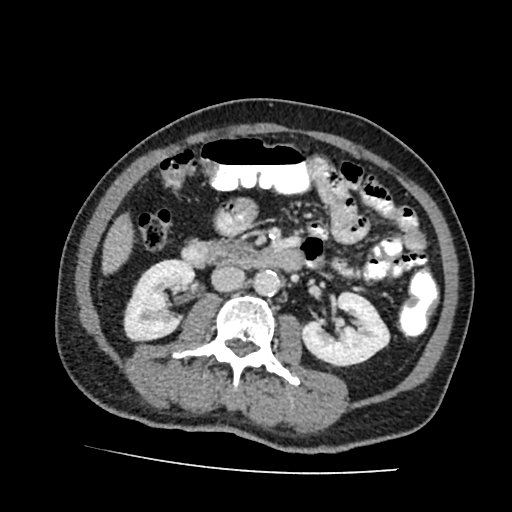aorta: (251, 268, 281, 298)
